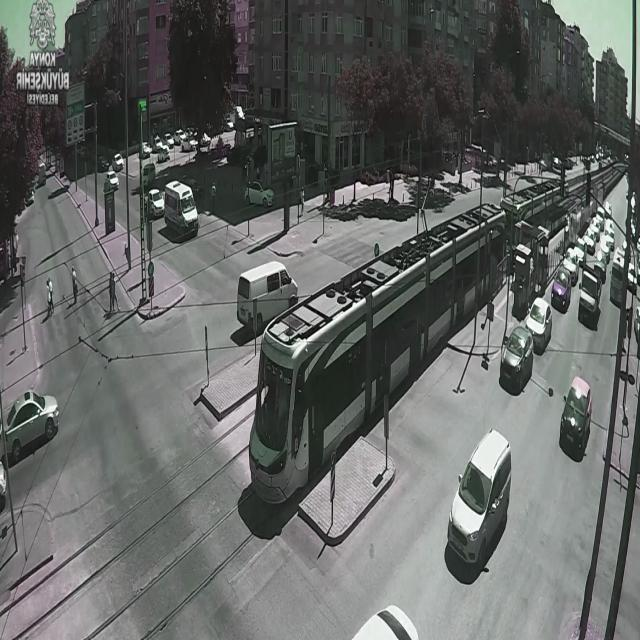Car: (444, 420, 516, 568), (236, 261, 298, 331), (1, 389, 59, 463), (560, 376, 594, 459), (341, 605, 421, 639), (500, 326, 536, 392), (163, 180, 200, 238), (524, 300, 552, 353), (578, 270, 602, 328), (550, 271, 572, 313), (245, 180, 274, 207), (559, 255, 579, 290), (146, 188, 166, 218), (179, 176, 202, 202), (593, 249, 608, 283), (611, 246, 626, 278), (599, 230, 614, 261), (0, 462, 8, 517), (585, 221, 601, 247), (582, 232, 597, 258), (627, 257, 638, 292), (104, 172, 118, 193), (604, 218, 616, 242), (591, 213, 604, 234), (198, 134, 212, 152), (596, 204, 608, 225), (112, 154, 124, 172), (181, 137, 195, 152), (233, 106, 244, 124), (156, 148, 170, 162), (141, 142, 152, 157), (164, 133, 175, 147), (604, 201, 612, 219), (178, 130, 188, 143), (224, 118, 234, 130), (172, 132, 182, 144)
